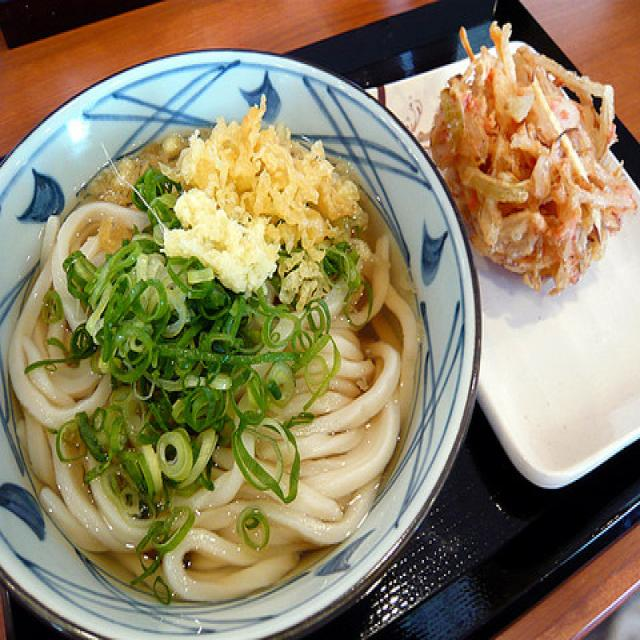面条主食: (0, 37, 480, 640)
